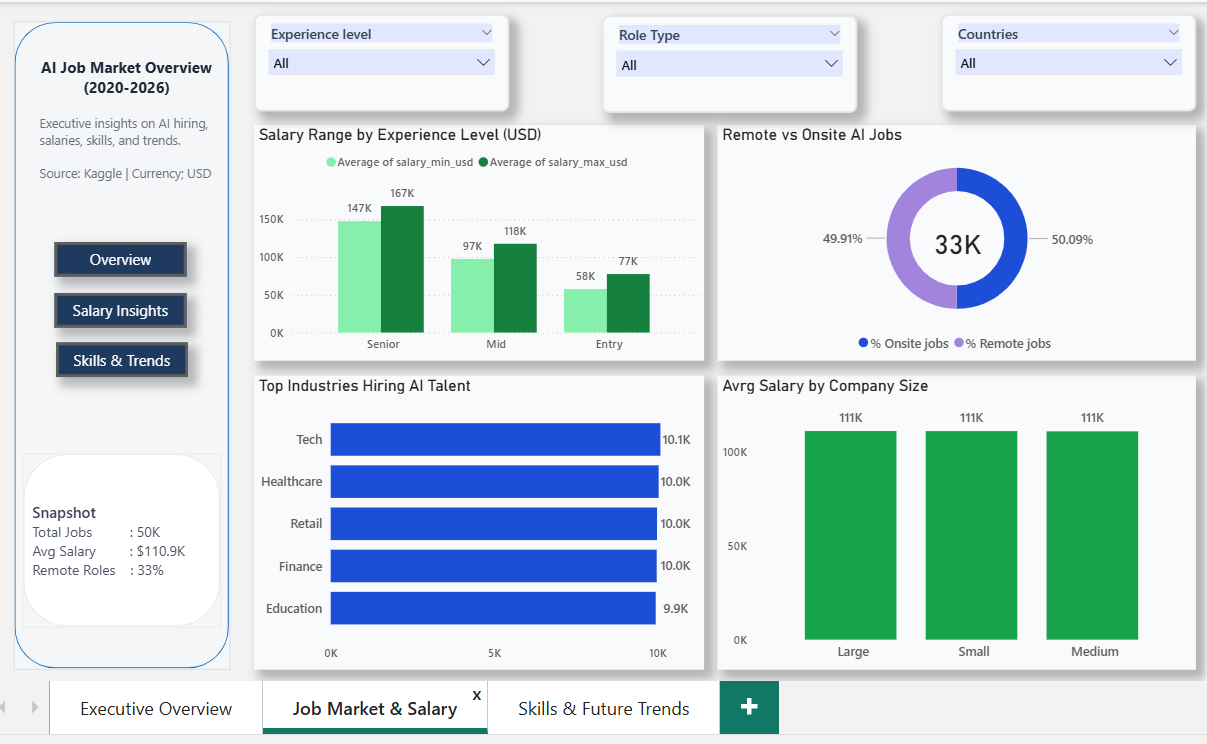

The dashboard page shown, as its layout file describes it:
{"tool":"powerbi","page":{"name":"Job Market & Salary","canvas":[1280,720],"ordinal":1},"visuals":[{"type":"clusteredColumnChart","title":"Salary Range by Experience Level (USD)","fields":{"Category":["ai_jobs.experience_level"],"Y":["Avg(ai_jobs.salary_min_usd)","Avg(ai_jobs.salary_max_usd)"]},"box":[270.4,130.4,477.2,249.7],"z":0},{"type":"shape","box":[25.4,478.8,210,184.5],"z":0,"group":"g2"},{"type":"barChart","title":"Top Industries Hiring AI Talent","fields":{"Category":["ai_jobs.industry"],"Y":["ai_jobs.Total_jobs"]},"box":[270.4,396.1,477.2,311.8],"z":1000},{"type":"textbox","box":[30,525.3,194.1,100.2],"z":1000,"group":"g2"},{"type":"donutChart","title":"Remote vs Onsite AI Jobs","fields":{"Y":["ai_jobs.% Onsite jobs","ai_jobs.% Remote jobs"]},"box":[761.9,130.4,507.4,249.7],"z":2000,"group":"g1"},{"type":"columnChart","title":"Avrg Salary by Company Size","fields":{"Category":["ai_jobs.company_size"],"Y":["ai_jobs.Avrg salary"]},"box":[761.9,396.1,507.4,311.8],"z":2000},{"type":"group","id":"g1","title":"Group 2","box":[761.9,130.4,507.4,249.7],"z":3000},{"type":"slicer","fields":{"Values":["ai_jobs.country"]},"box":[998.9,12.7,270.4,103.4],"z":4000},{"type":"shape","box":[15.7,20.9,229,687.1],"z":4000,"group":"g5"},{"type":"card","fields":{"Values":["ai_jobs.Totl oj&rj"]},"box":[978.2,225.8,76.3,57.3],"z":4001,"group":"g1"},{"type":"slicer","fields":{"Values":["ai_jobs.experience_level"]},"box":[270.4,12.7,270.4,103.4],"z":5000},{"type":"textbox","box":[26.6,53.3,205.7,158.2],"z":5000,"group":"g5"},{"type":"slicer","fields":{"Values":["ai_jobs.remote_type"]},"box":[639.4,14.3,270.4,103.4],"z":6000},{"type":"group","id":"g2","title":"Group 4","box":[25.4,478.8,210,184.5],"z":6006,"group":"g4"},{"type":"group","id":"g3","title":"Group 1","box":[15.7,20.9,229,687.1],"z":7000},{"type":"actionButton","title":"Salary Insights","box":[58.9,254.5,140,36.6],"z":8000},{"type":"actionButton","title":"Salary Insights","box":[60.4,361.1,140,36.6],"z":9000},{"type":"actionButton","title":"Salary Insights","box":[58.9,308.6,140,36.6],"z":10000},{"type":"group","id":"g4","title":"Group 2","box":[25.4,478.8,210,184.5],"z":11000},{"type":"group","id":"g5","title":"Group 3","box":[15.7,20.9,229,687.1],"z":14004,"group":"g3"}]}

Visuals, with their boxes on the page's 1280x720 design canvas (x1, y1, x2, y2). These are canvas units, not pixel positions in the 1207x744 screenshot, which may show the page scaled, cropped or inside an application window:
"Salary Range by Experience Level (USD)" clusteredColumnChart: <region>270, 130, 748, 380</region>
shape: <region>25, 479, 235, 663</region>
"Top Industries Hiring AI Talent" barChart: <region>270, 396, 748, 708</region>
textbox: <region>30, 525, 224, 626</region>
"Remote vs Onsite AI Jobs" donutChart: <region>762, 130, 1269, 380</region>
"Avrg Salary by Company Size" columnChart: <region>762, 396, 1269, 708</region>
"Group 2" group: <region>762, 130, 1269, 380</region>
slicer - ai_jobs.country: <region>999, 13, 1269, 116</region>
shape: <region>16, 21, 245, 708</region>
card - ai_jobs.Totl oj&rj: <region>978, 226, 1054, 283</region>
slicer - ai_jobs.experience_level: <region>270, 13, 541, 116</region>
textbox: <region>27, 53, 232, 212</region>
slicer - ai_jobs.remote_type: <region>639, 14, 910, 118</region>
"Group 4" group: <region>25, 479, 235, 663</region>
"Group 1" group: <region>16, 21, 245, 708</region>
"Salary Insights" actionButton: <region>59, 254, 199, 291</region>
"Salary Insights" actionButton: <region>60, 361, 200, 398</region>
"Salary Insights" actionButton: <region>59, 309, 199, 345</region>
"Group 2" group: <region>25, 479, 235, 663</region>
"Group 3" group: <region>16, 21, 245, 708</region>
